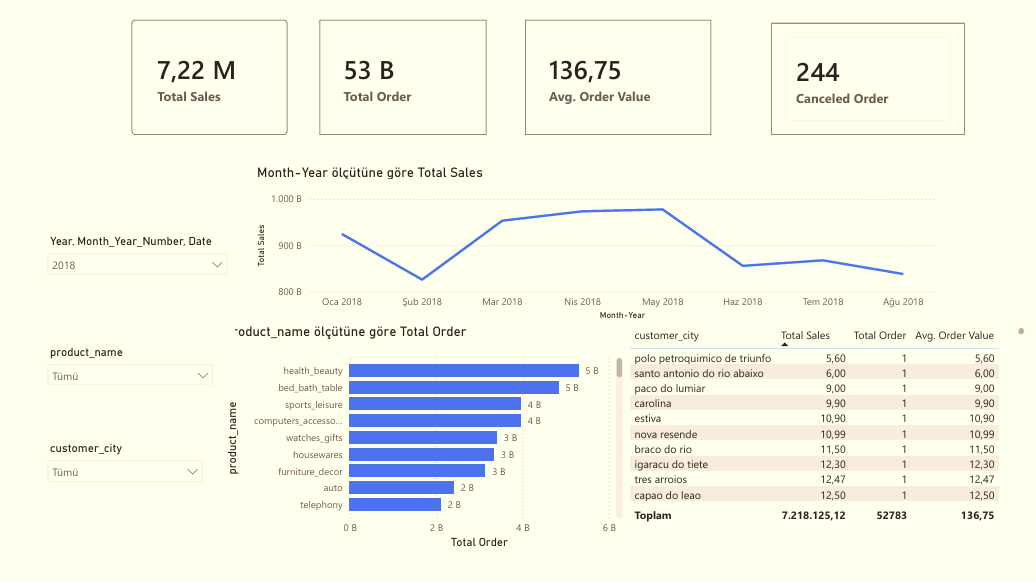

The dashboard page shown, as its layout file describes it:
{"tool":"powerbi","page":{"name":"Page 1","canvas":[1280,720],"ordinal":1},"visuals":[{"type":"cardVisual","fields":{"Data":["#Measure.Total Sales"]},"box":[158.3,28.3,195,143.3],"z":0},{"type":"cardVisual","fields":{"Data":["#Measure.Total Order"]},"box":[393.3,28.3,208.3,143.3],"z":1000},{"type":"cardVisual","fields":{"Data":["#Measure.Avg. Order Value"]},"box":[650,28.3,233.3,143.3],"z":2000},{"type":"cardVisual","fields":{"Data":["#Measure.Canceled Order"]},"box":[958.3,31.7,241.7,140],"z":3000},{"type":"lineChart","fields":{"Category":["DimDate.Month-Year"],"Y":["#Measure.Total Sales"]},"box":[310,208.3,858.3,198.3],"z":4000},{"type":"clusteredBarChart","fields":{"Category":["DimProduct.product_name"],"Y":["#Measure.Total Order"]},"box":[270,406.7,506.7,286.7],"z":5000},{"type":"pivotTable","fields":{"Rows":["DimCustomer.customer_city"],"Values":["#Measure.Total Sales","#Measure.Total Order","#Measure.Avg. Order Value"]},"box":[776.7,406.7,503.3,253.3],"z":6000},{"type":"slicer","fields":{"Values":["DimDate.Year","DimDate.Month_Year_Number","DimDate.Date"]},"box":[43.3,291.7,245,196.7],"z":7000},{"type":"slicer","fields":{"Values":["DimProduct.product_name"]},"box":[43.3,430,226.7,86.7],"z":8000},{"type":"slicer","fields":{"Values":["DimCustomer.customer_city"]},"box":[43.3,550,213.3,73.3],"z":9000}]}

Visuals, with their boxes in screenshot pixels (x1, y1, x2, y2), scaled from the page's 1280x720 canvas onto the 1036x582 screenshot:
cardVisual - #Measure.Total Sales: rect(128, 23, 286, 139)
cardVisual - #Measure.Total Order: rect(318, 23, 487, 139)
cardVisual - #Measure.Avg. Order Value: rect(526, 23, 715, 139)
cardVisual - #Measure.Canceled Order: rect(776, 26, 971, 139)
lineChart - DimDate.Month-Year x #Measure.Total Sales: rect(251, 168, 946, 329)
clusteredBarChart - DimProduct.product_name x #Measure.Total Order: rect(219, 329, 629, 560)
pivotTable - DimCustomer.customer_city x #Measure.Total Sales: rect(629, 329, 1035, 534)
slicer - DimDate.Year x DimDate.Month_Year_Number: rect(35, 236, 233, 395)
slicer - DimProduct.product_name: rect(35, 348, 219, 418)
slicer - DimCustomer.customer_city: rect(35, 445, 208, 504)
